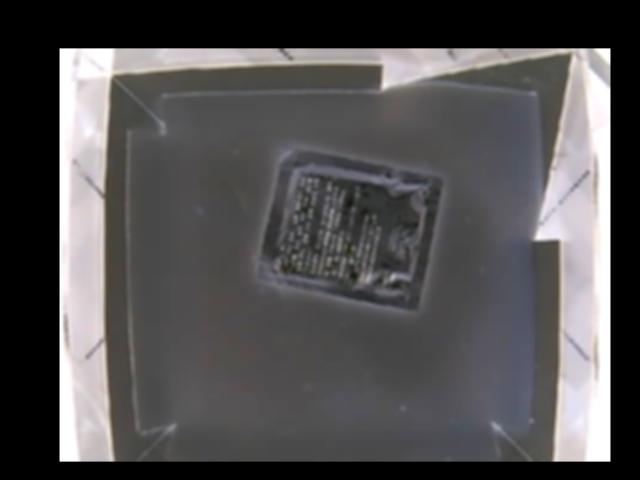Medicine: (256, 145, 440, 309)
